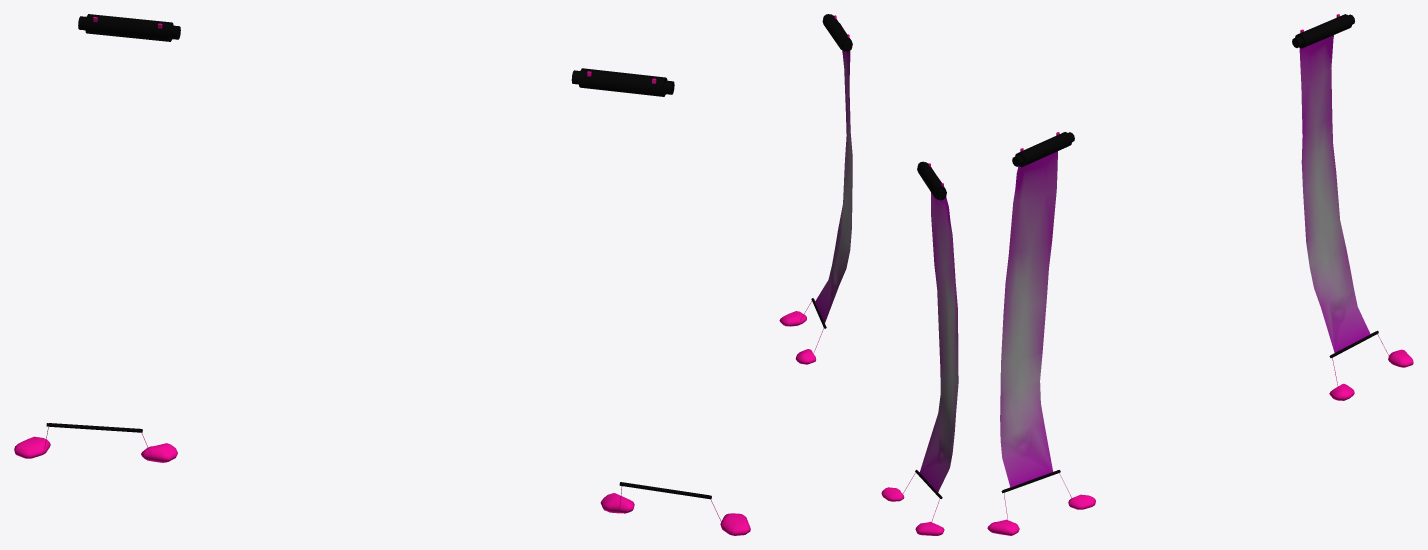
File: SM_ENV_LKNVLD_ShopFlag_A_Lod2.gltf
3 renders of one model, left to right at view 1: azimuth 30°, elevation 25°; view 2: azimuth 150°, elevation 25°; view 3: azimuth 270°, elevation 25°, orthographic. The views are drawn at different scales.
Parts seen in each view (by area): view 1: SM_ENV_LKNVLD_ShopFlag_A_Lod2; view 2: SM_ENV_LKNVLD_ShopFlag_A_Lod2; view 3: SM_ENV_LKNVLD_ShopFlag_A_Lod2.
Boxes of the visible parts, left/top/right/bottom form: SM_ENV_LKNVLD_ShopFlag_A_Lod2: left=14, top=14, right=750, bottom=535; SM_ENV_LKNVLD_ShopFlag_A_Lod2: left=779, top=14, right=958, bottom=535; SM_ENV_LKNVLD_ShopFlag_A_Lod2: left=987, top=14, right=1413, bottom=535.
Bounding box in the file's own units: 18.24 × 16.74 × 18.04.
